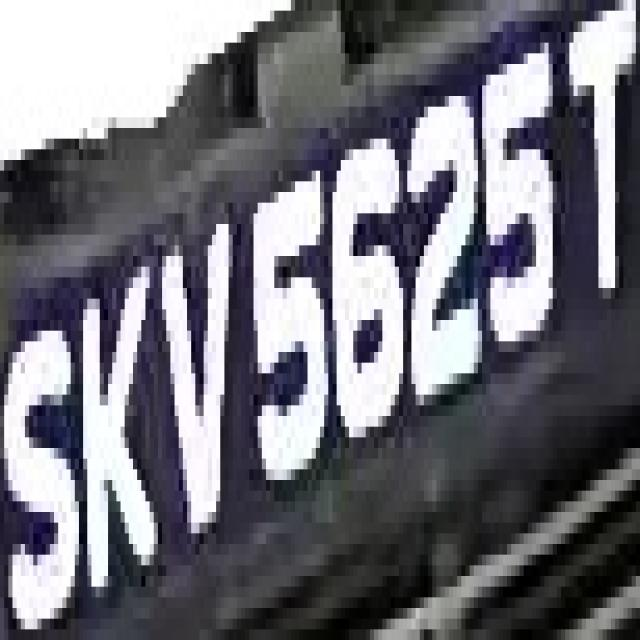2: (391, 64, 482, 427)
5: (241, 170, 345, 490), (470, 32, 569, 341)
6: (320, 117, 411, 480)
K: (71, 256, 158, 629)
S: (8, 266, 74, 640)
T: (561, 0, 640, 320)
V: (146, 213, 250, 555)
